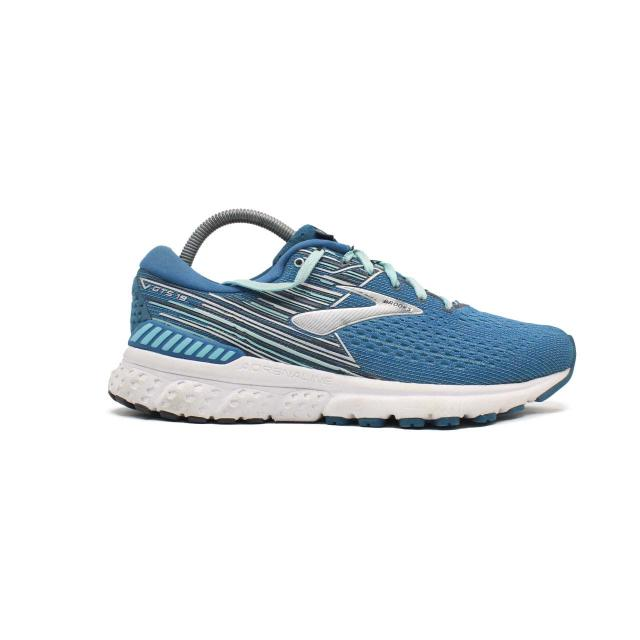heel: (128, 246, 218, 358)
midsole: (111, 339, 577, 429)
uppersole: (213, 223, 570, 379)
